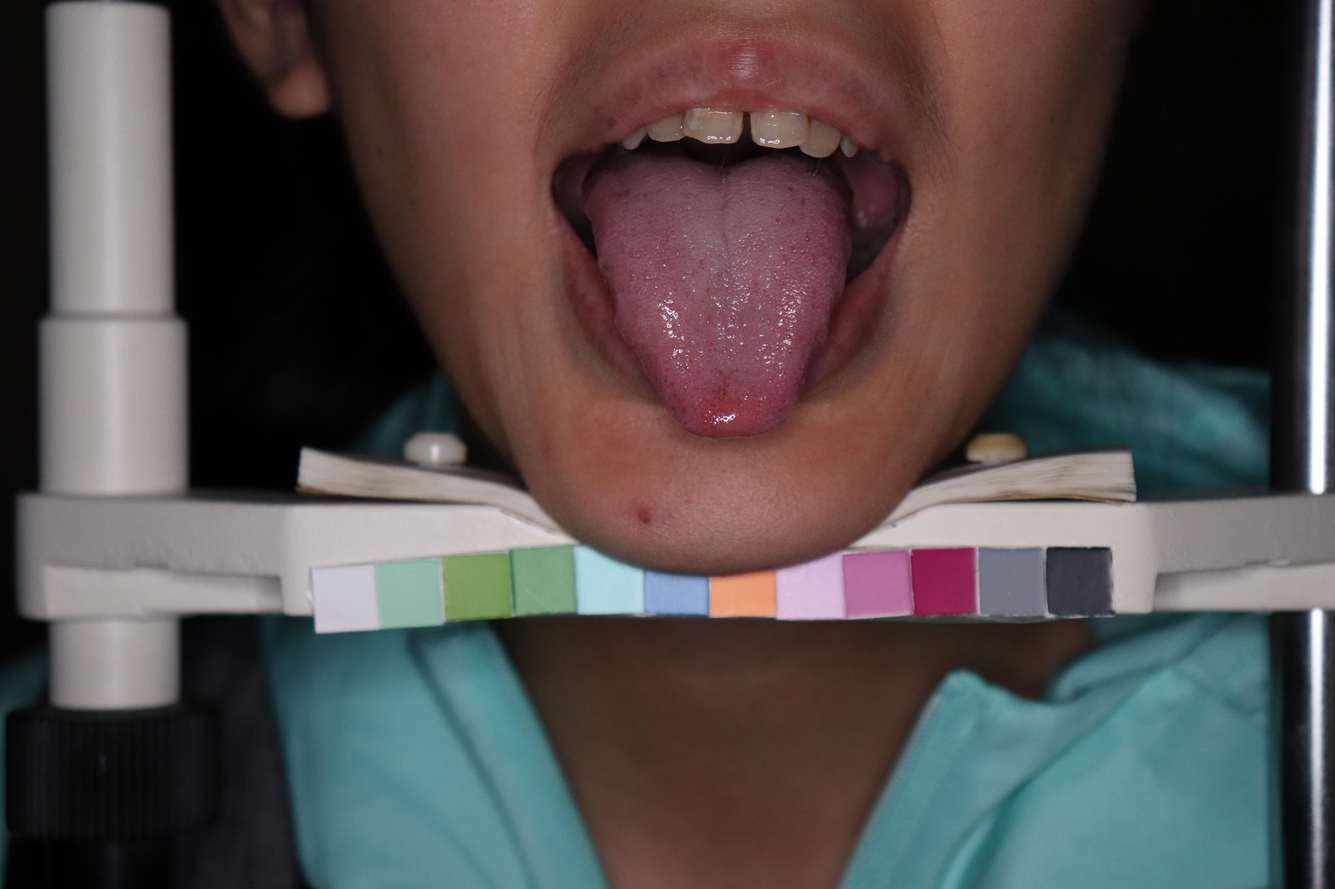baitaishe: (582, 152, 853, 439)
hongdianshe: (785, 185, 793, 194), (662, 376, 668, 383), (671, 391, 677, 397), (681, 406, 686, 413), (718, 367, 723, 374), (710, 388, 716, 393)
